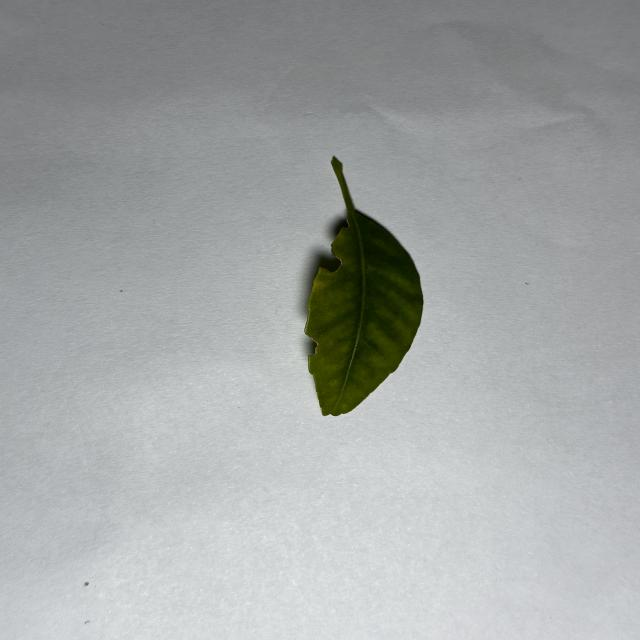greening: (305, 158, 423, 416)
